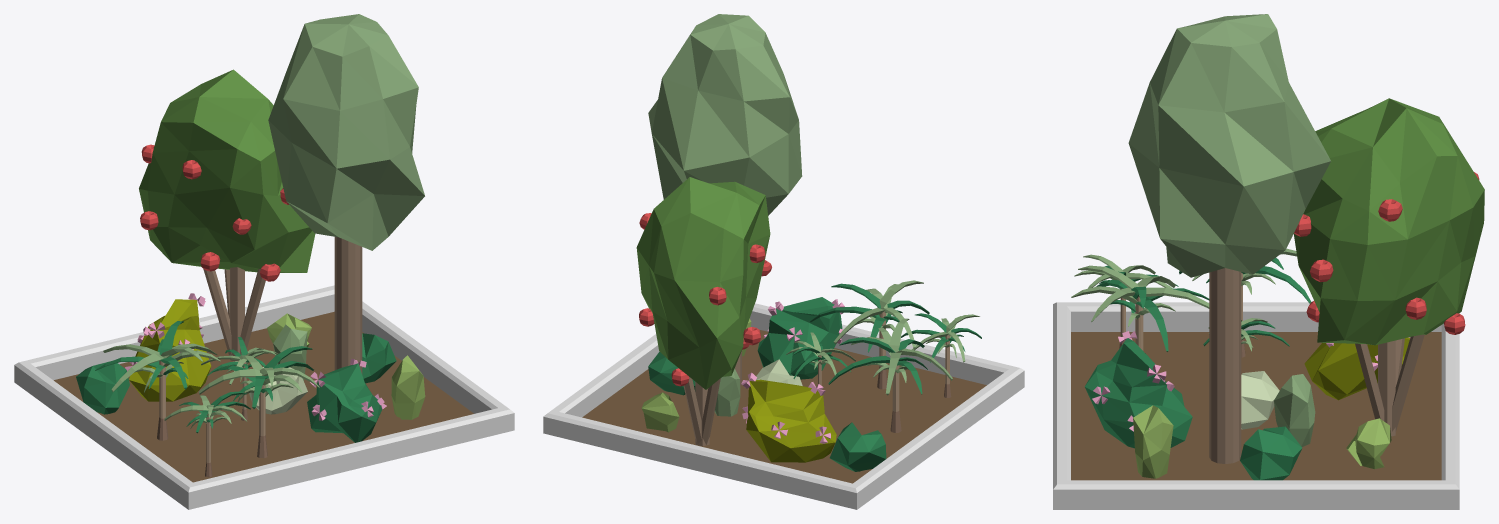
Rendered from jardin_pequeño.fbx.
3 views of the same model, side by side, from view 1: azimuth 30°, elevation 25°; view 2: azimuth 150°, elevation 25°; view 3: azimuth 270°, elevation 25° (orthographic). The views are drawn at different scales.
Parts seen in each view (by area): view 1: CASA_2_alturas7, arbol_33, arbol_32, caja_plantas22, arbusto_10, arbusto_9, caja_planta_individual14, planta_individual_1, caja_planta_individual13, caja_planta_individual12; view 2: CASA_2_alturas7, arbol_32, arbol_33, arbusto_9, caja_plantas22, arbusto_10, caja_planta_individual14, planta_individual_1, caja_planta_individual13, caja_planta_individual12; view 3: CASA_2_alturas7, arbol_33, arbol_32, caja_plantas22, arbusto_10, planta_individual_1, arbusto_9, caja_planta_individual13, caja_planta_individual14, caja_planta_individual12.
Part boxes in pixels (box(x1,y1,x2,y2)): CASA_2_alturas7: box(14, 285, 514, 509); arbol_33: box(268, 14, 424, 374); arbol_32: box(139, 69, 315, 361); caja_plantas22: box(76, 313, 425, 419); arbusto_10: box(307, 358, 386, 442); arbusto_9: box(125, 293, 211, 401); caja_planta_individual14: box(95, 321, 220, 440); planta_individual_1: box(199, 346, 319, 458); caja_planta_individual13: box(164, 391, 250, 477); caja_planta_individual12: box(201, 337, 278, 420); CASA_2_alturas7: box(543, 303, 1024, 509); arbol_32: box(636, 177, 771, 446); arbol_33: box(648, 14, 802, 386); arbusto_9: box(741, 372, 836, 462); caja_plantas22: box(641, 318, 886, 471); arbusto_10: box(757, 297, 844, 379); caja_planta_individual14: box(828, 318, 952, 432); planta_individual_1: box(810, 280, 929, 389); caja_planta_individual13: box(901, 313, 981, 397); caja_planta_individual12: box(786, 332, 855, 385); CASA_2_alturas7: box(1053, 302, 1459, 509); arbol_33: box(1128, 14, 1330, 463); arbol_32: box(1293, 98, 1484, 436); caja_plantas22: box(1133, 371, 1391, 480); arbusto_10: box(1084, 331, 1192, 448); planta_individual_1: box(1071, 265, 1209, 351); arbusto_9: box(1304, 337, 1410, 400); caja_planta_individual13: box(1074, 254, 1178, 348); caja_planta_individual14: box(1179, 248, 1311, 357); caja_planta_individual12: box(1203, 318, 1289, 351).
Bounding box in the file's own units: 454 × 507 × 446.
